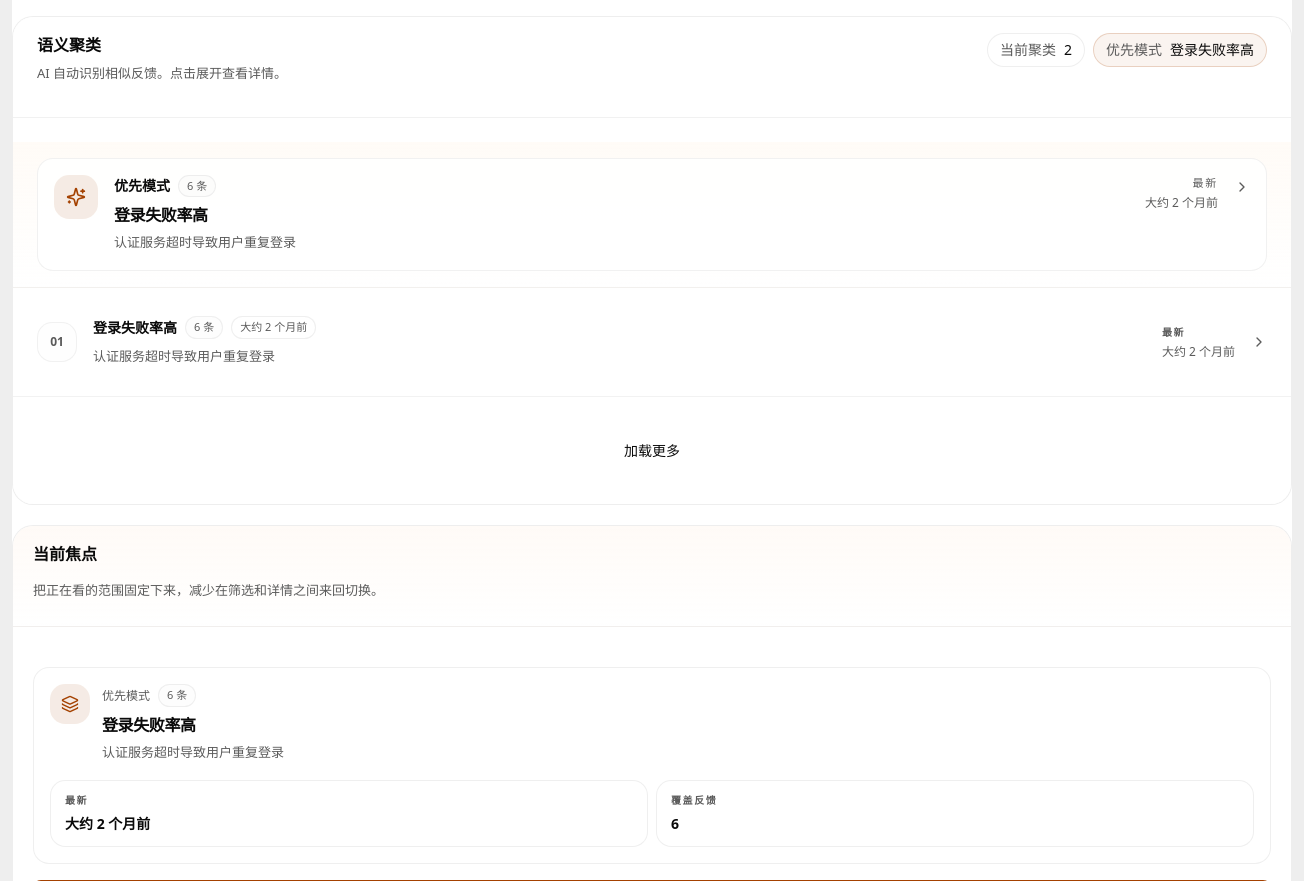
Scenario: ClustersPage › loads additional cluster rows from the virtualized list
(page scrolled)
Expected: the 1st text "登录失败率高" is shown, [1170,40,1254,60]
Click the button "加载更多": (652, 451) [612,435,692,467]
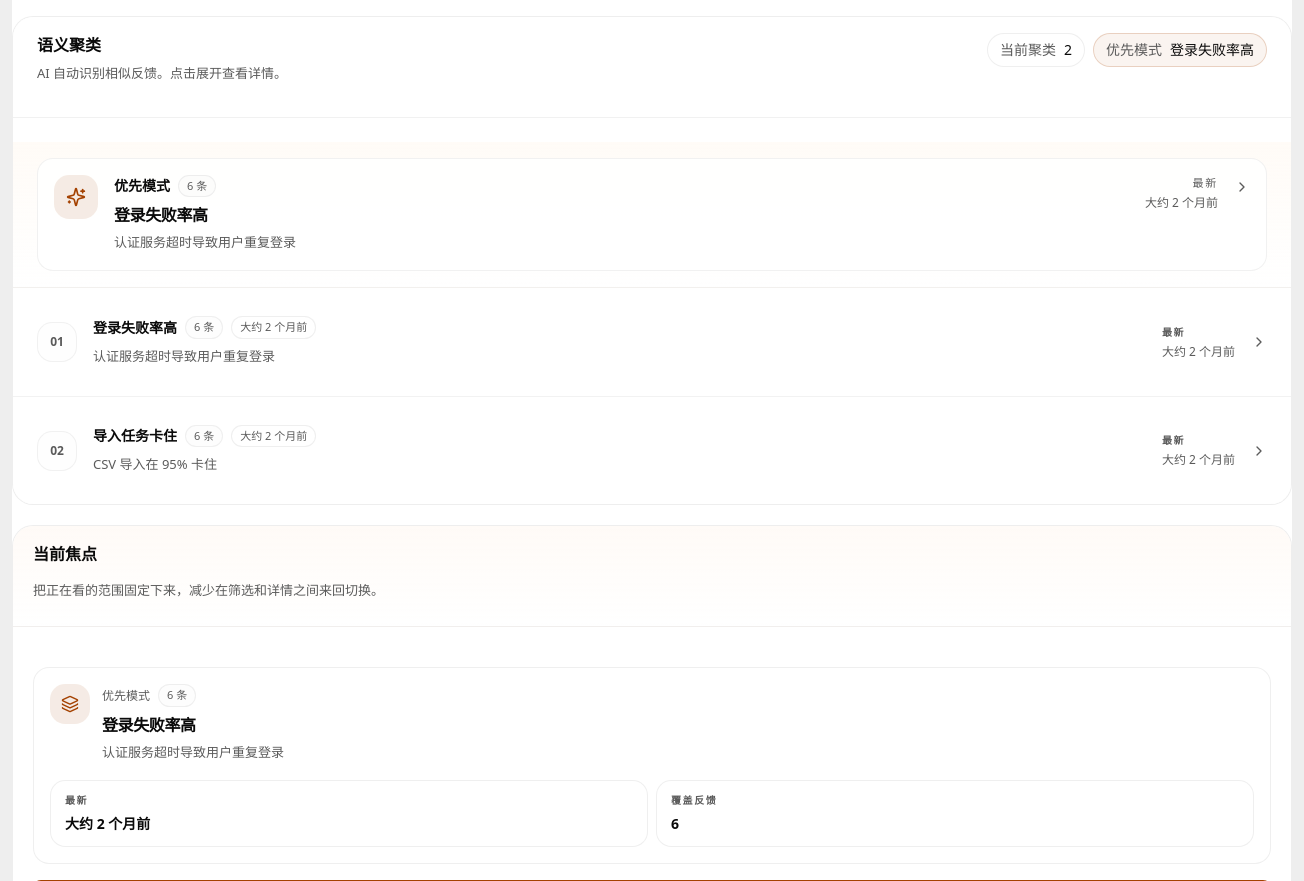
Expected: the text "导入任务卡住" is shown, [93,426,177,446]
